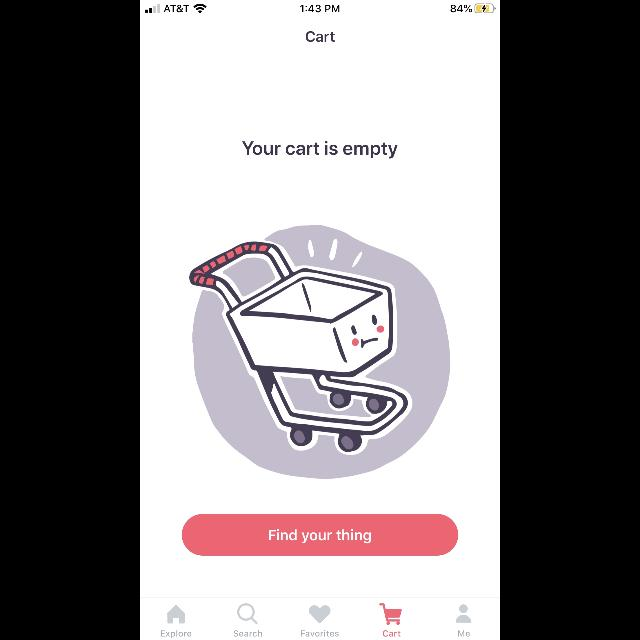icon: (379, 603, 401, 625), (238, 604, 258, 624), (309, 605, 331, 623), (168, 604, 185, 624), (456, 605, 472, 623)
image: (190, 225, 450, 479)
text: (242, 142, 398, 158), (306, 32, 334, 42), (160, 630, 192, 638), (302, 630, 338, 636), (234, 630, 262, 636), (383, 630, 401, 636), (458, 630, 470, 636)
textbutton: (182, 514, 458, 556)
uppertaskbar: (140, 0, 500, 14)
